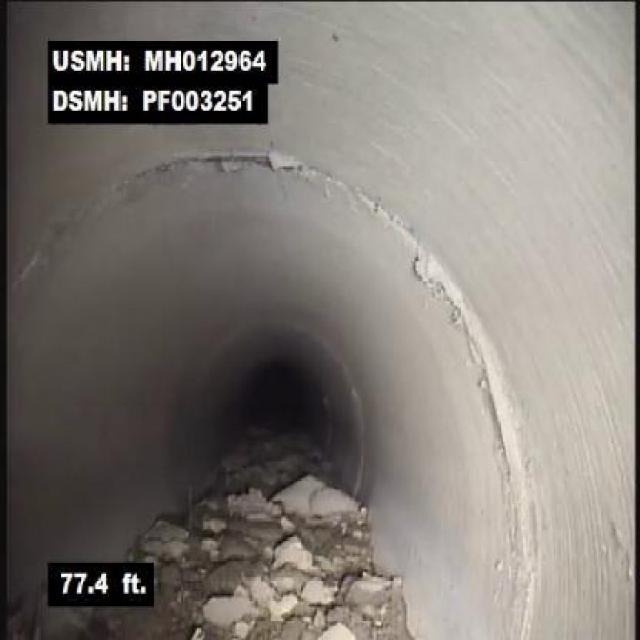Debris: (157, 398, 417, 638)
